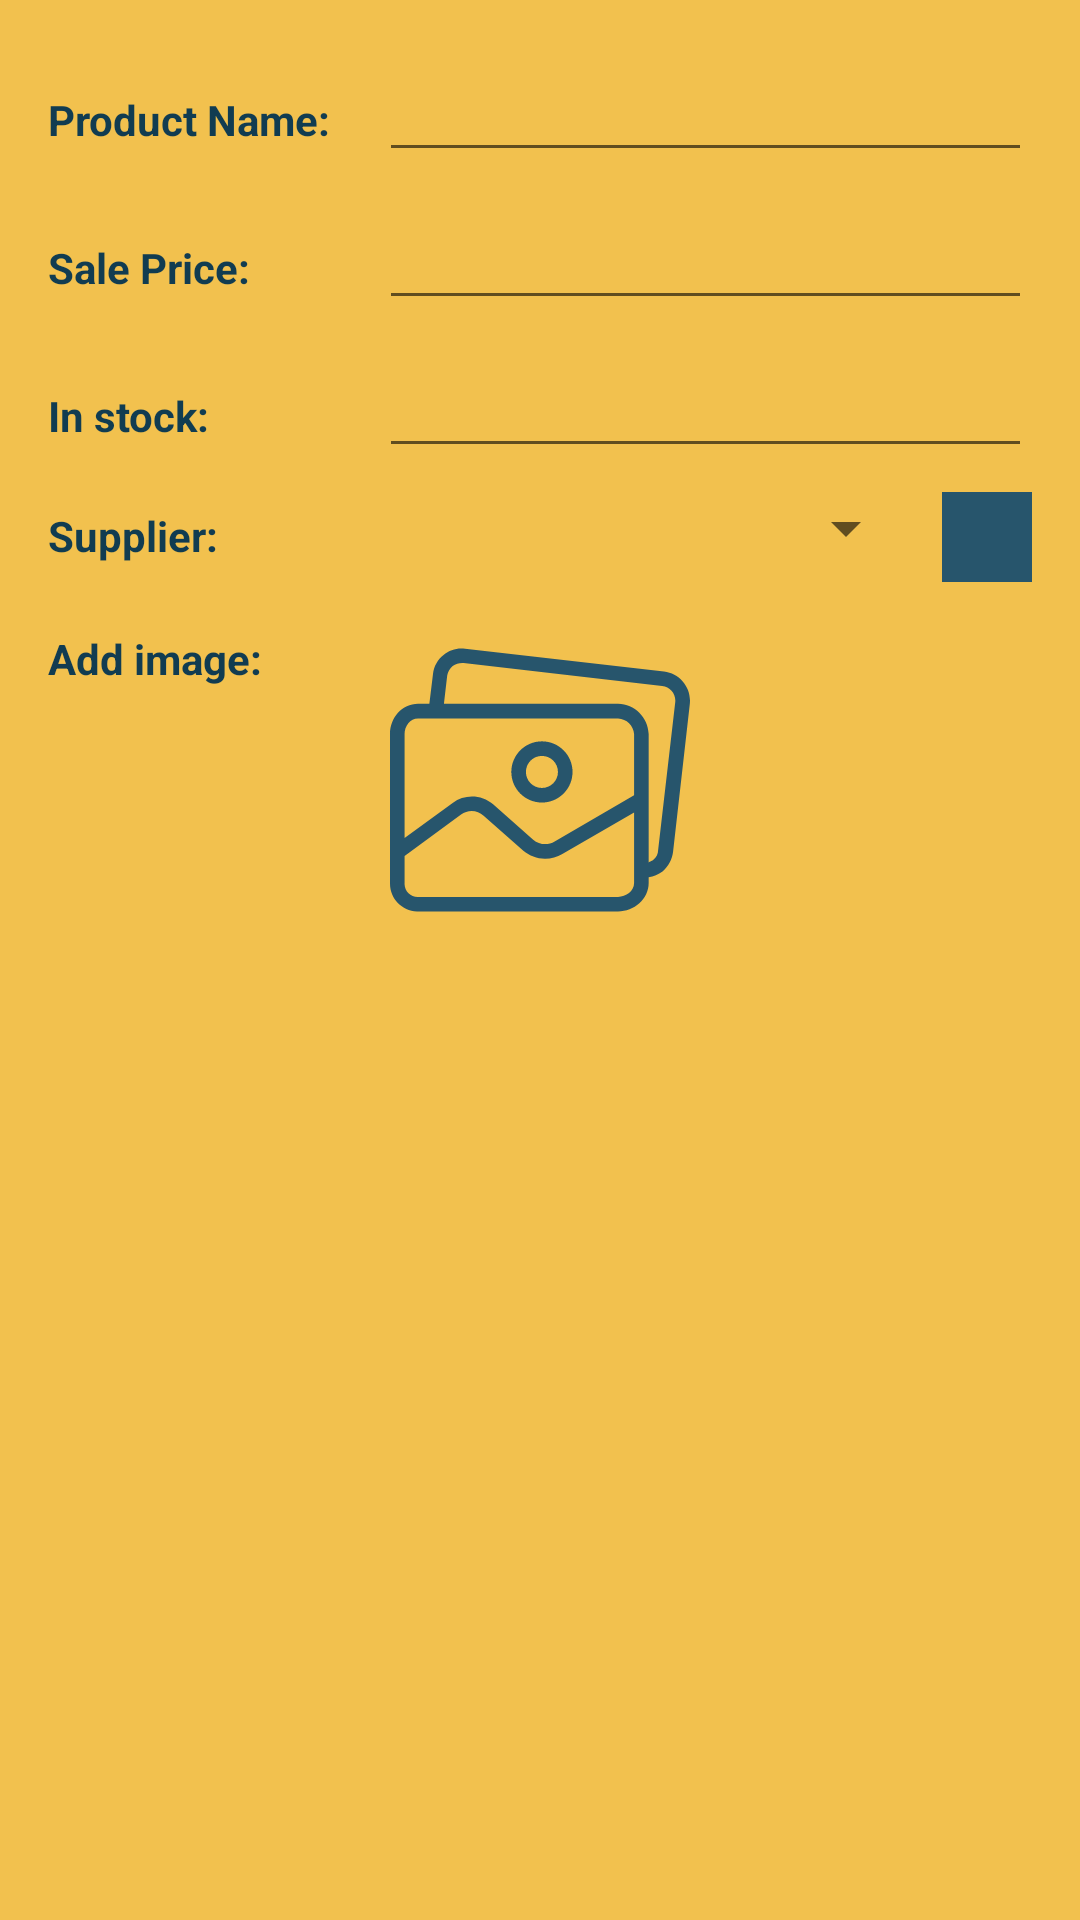

Screen size 1080px x 1920px. Icon name, then its center in pixels as (x=x, y=y):
Image of the product, if available: (x=540, y=780)
